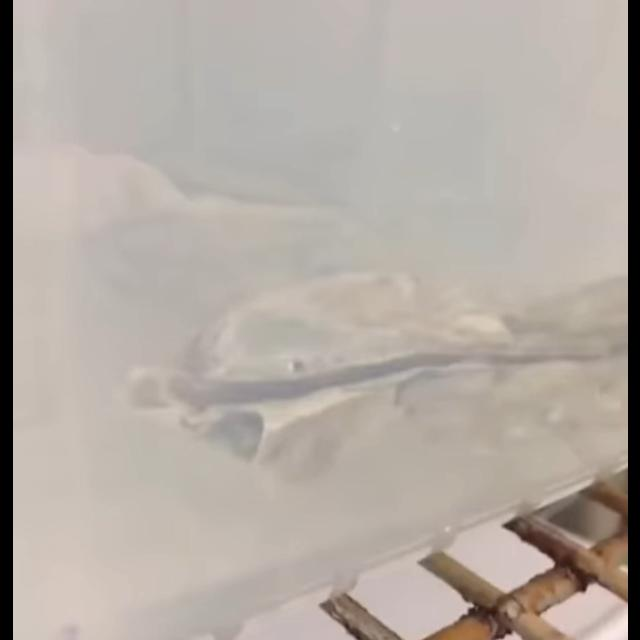Oyster-Indeterminate: (49, 143, 358, 260)
Oyster-Open: (136, 272, 620, 478)
